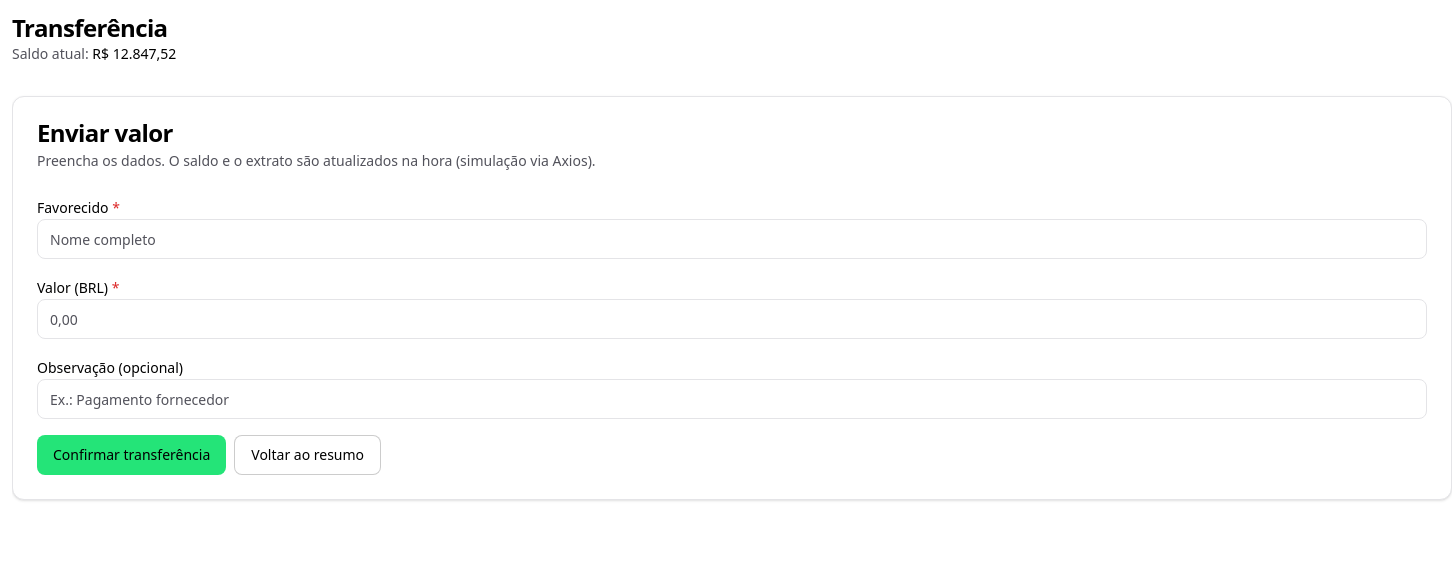
Test case: TransferPage › exige favorecido e valor ao enviar vazio
Check: the field labelled "Favorecido *" is shown, box [37,219,1427,259]
Step 1. Click the button "Confirmar transferência" → (132, 455), box [37,435,226,475]
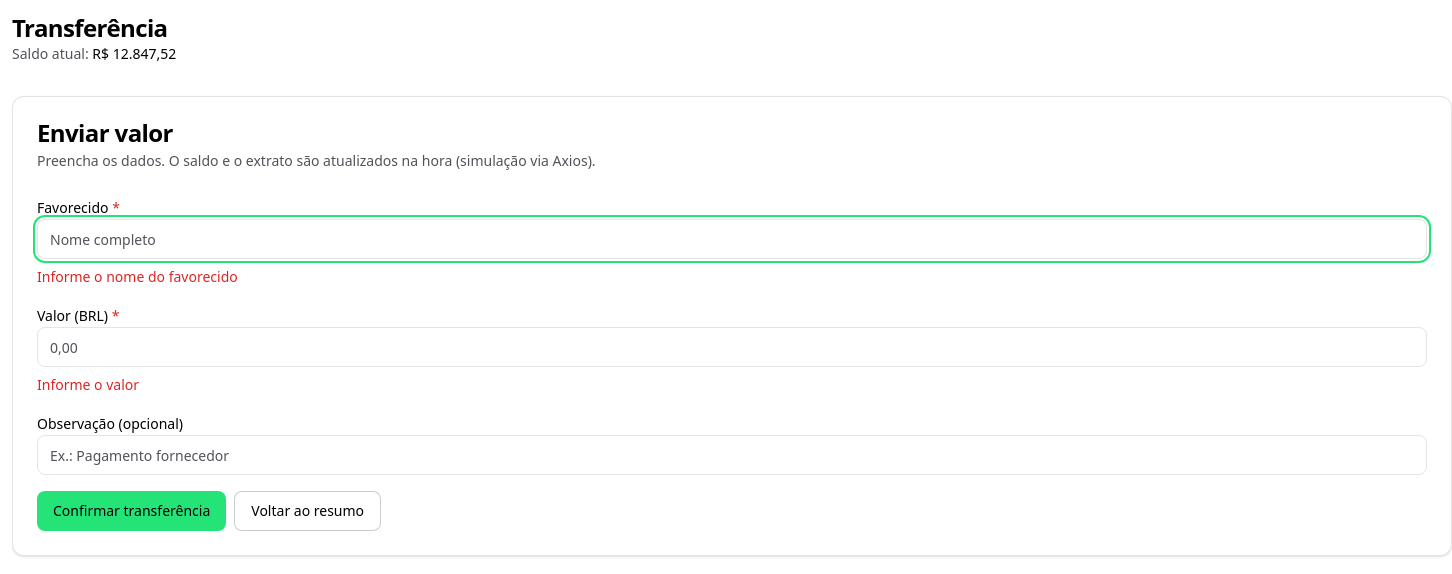
Check: the text "Informe o nome do favorecido" is shown, box [37,267,238,286]
Check: the text "Informe o valor" is shown, box [37,375,139,394]
